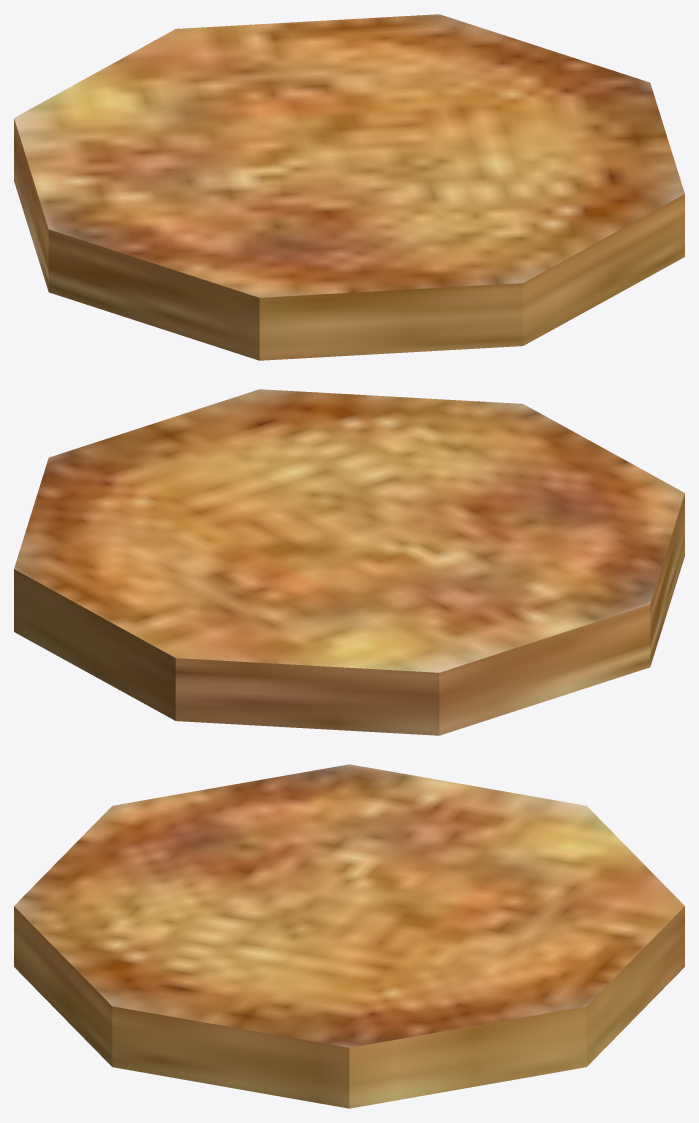
The model's file is gold coin.fbx.
3 views of the same model, one above another, from view 1: azimuth 30°, elevation 25°; view 2: azimuth 150°, elevation 25°; view 3: azimuth 270°, elevation 25° (orthographic). The views are drawn at different scales.
Visible parts, largest first — view 1: Cylinder; view 2: Cylinder; view 3: Cylinder.
Boxes of the visible parts, bbox=[...] form: Cylinder: bbox=[14, 14, 684, 360]; Cylinder: bbox=[14, 389, 684, 735]; Cylinder: bbox=[14, 764, 684, 1108].
Bounding box in the file's own units: 42.12 × 4.21 × 42.12.
